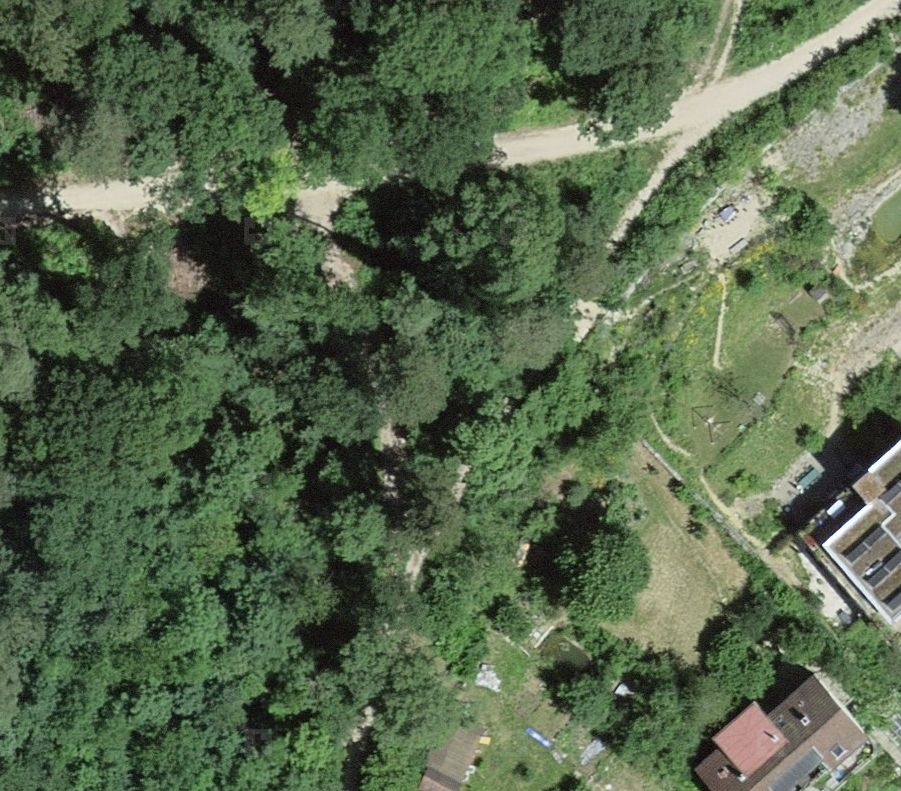solar: (834, 471, 901, 618)
